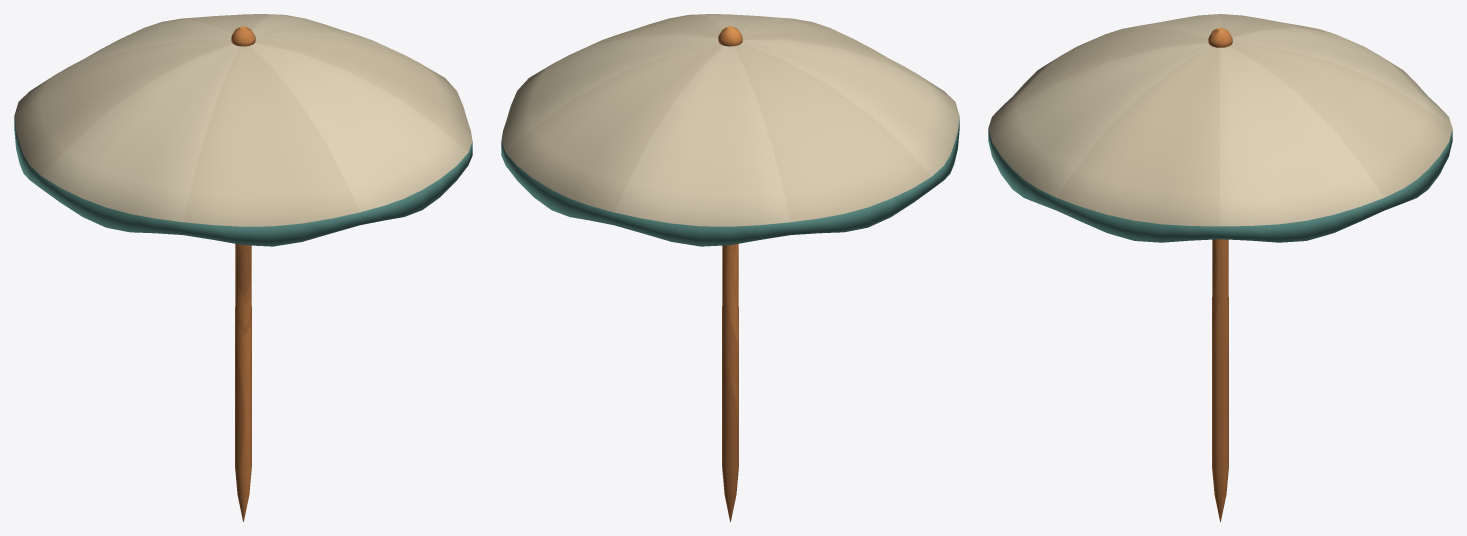
File: Sun_Umbrella_01.fbx
3 renders of one model, left to right at view 1: azimuth 30°, elevation 25°; view 2: azimuth 150°, elevation 25°; view 3: azimuth 270°, elevation 25°, orthographic.
Visible parts, largest first — view 1: Sun_Umbrella_01_Mesh; view 2: Sun_Umbrella_01_Mesh; view 3: Sun_Umbrella_01_Mesh.
Part boxes in pixels (x1,y1,x2,y2): Sun_Umbrella_01_Mesh: [14, 14, 472, 521]; Sun_Umbrella_01_Mesh: [501, 14, 959, 521]; Sun_Umbrella_01_Mesh: [988, 14, 1452, 521].
Size of the model in its own units: 2.46 by 2.88 by 2.46.
